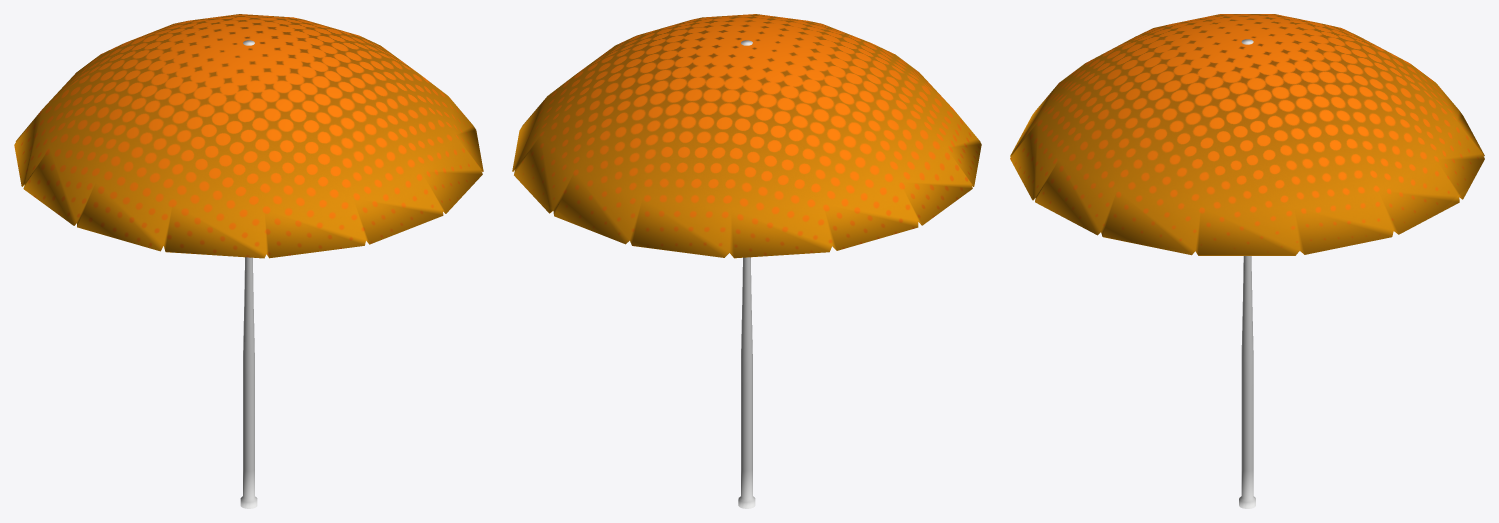
Rendered from parasol.fbx.
3 renders of one model, left to right at view 1: azimuth 30°, elevation 25°; view 2: azimuth 150°, elevation 25°; view 3: azimuth 270°, elevation 25°, orthographic.
Visible parts, largest first — view 1: parasol; view 2: parasol; view 3: parasol.
Boxes of the visible parts, x1,y1,x2,y2 form: parasol: (14,14,483,508); parasol: (512,14,981,508); parasol: (1010,14,1484,508).
Bounding box in the file's own units: 462 × 509 × 472.
Materials: 2 (1 with a texture image).
